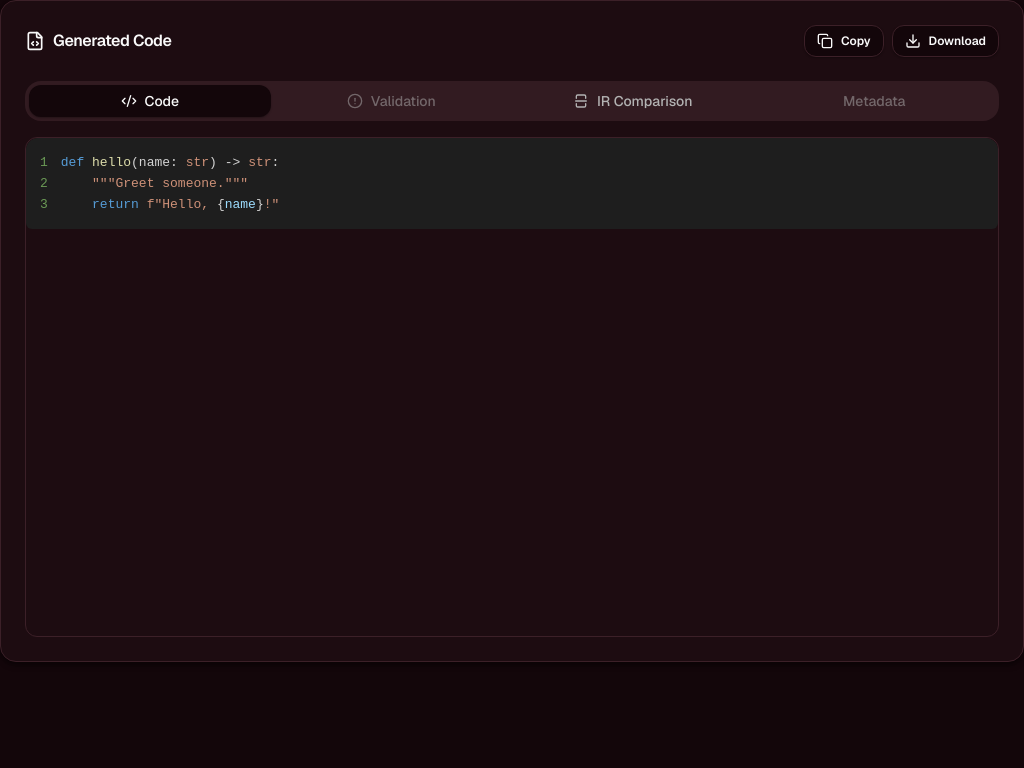
CodePreview › displays side-by-side comparison when showComparison is true
Click the tab "IR Comparison". click: coordinates (633, 101)
box: [512, 85, 754, 117]
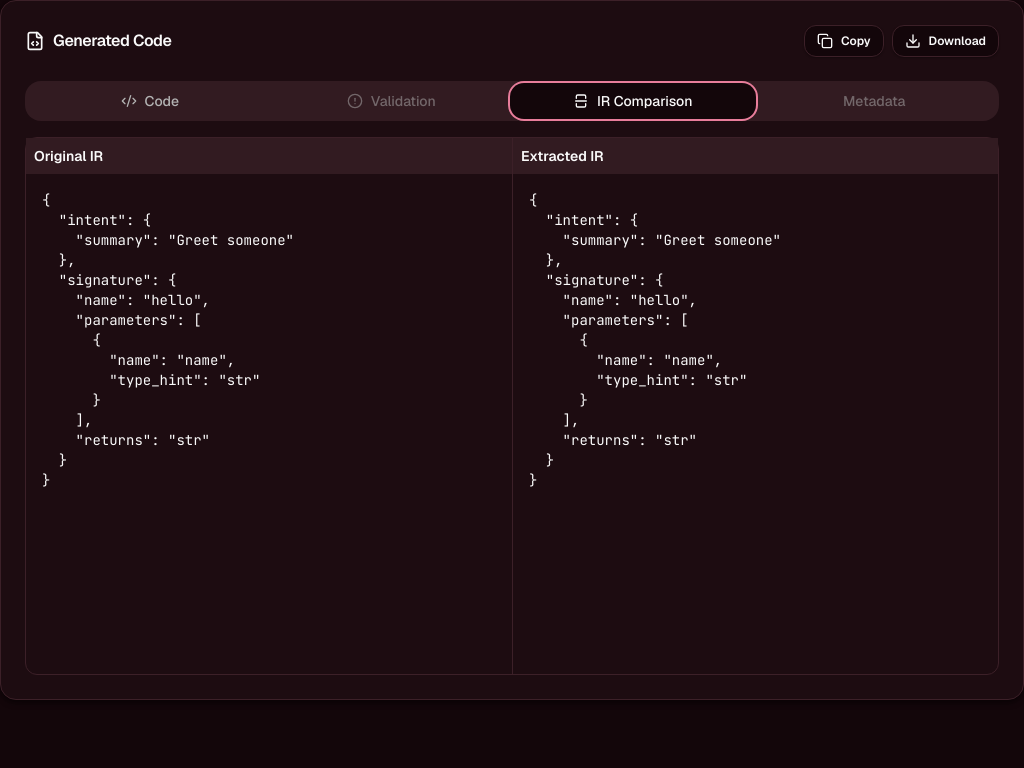
expect the text "Original IR" is shown: met, box [26, 138, 512, 174]
expect the text "Extracted IR" is shown: met, box [513, 138, 998, 174]
